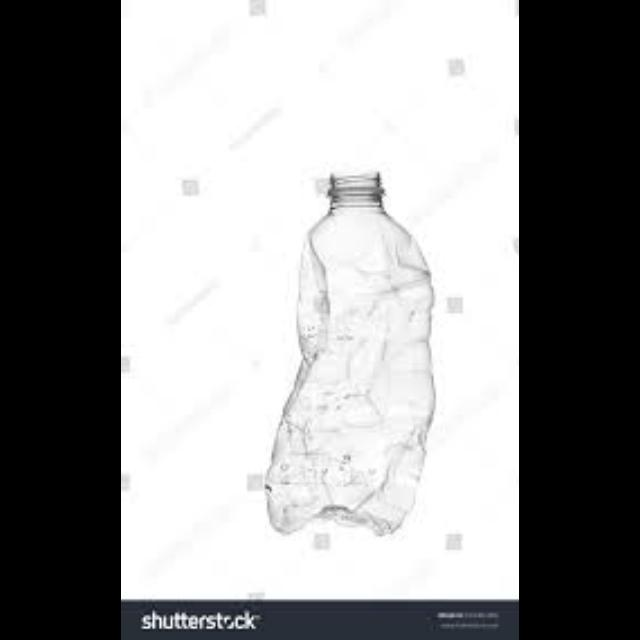trash: (261, 151, 455, 543)
